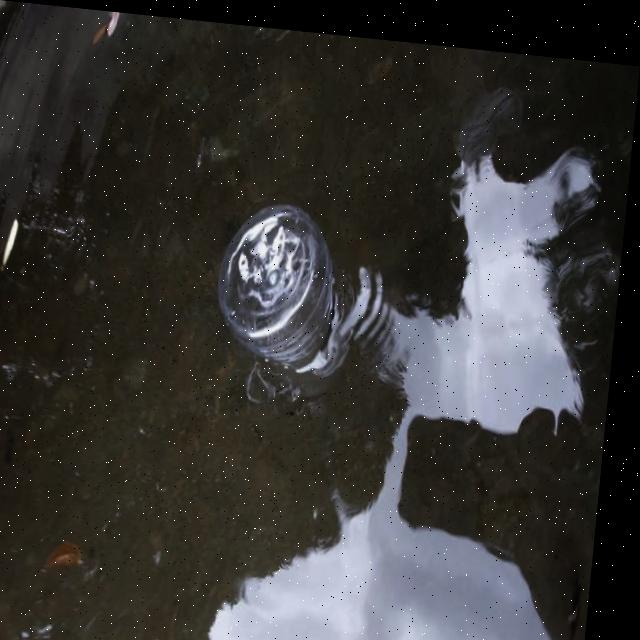leaf: (77, 7, 188, 54), (28, 622, 86, 640)
waterbottle: (179, 181, 391, 410)
